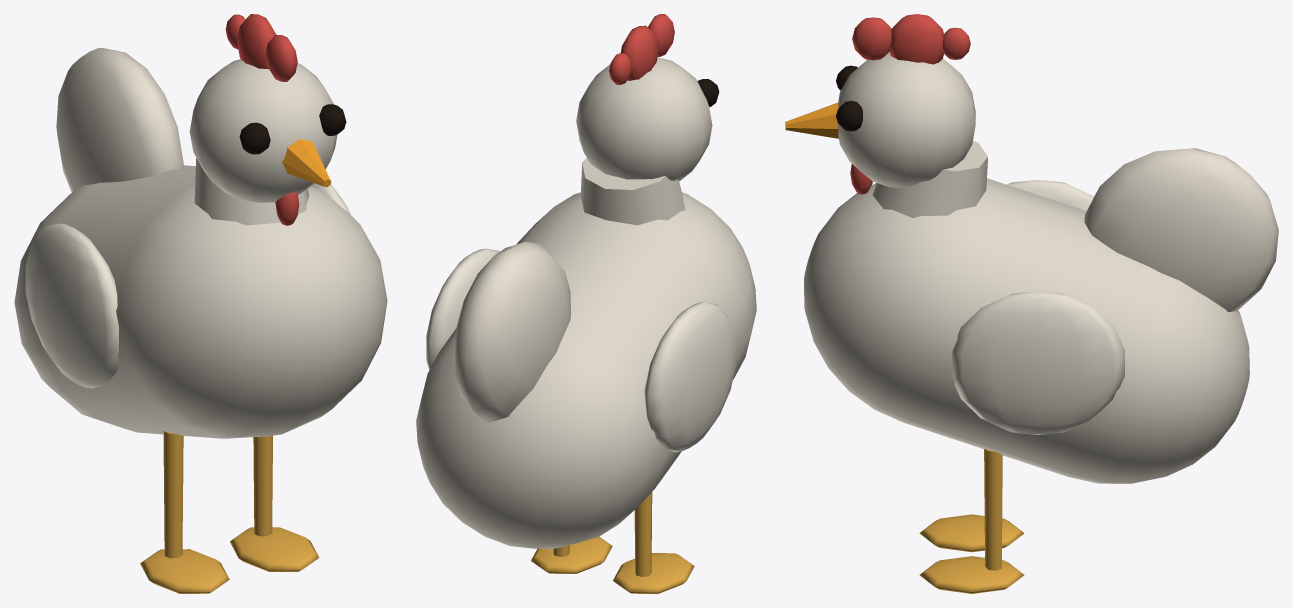
File: h38-ayam.glb
3 views of the same model, side by side, from view 1: azimuth 30°, elevation 25°; view 2: azimuth 150°, elevation 25°; view 3: azimuth 270°, elevation 25° (orthographic). The views are drawn at different scales.
Parts seen in each view (by area): view 1: Ayam, head; view 2: Ayam, head; view 3: Ayam, head.
Part boxes in pixels (x1,y1,x2,y2): Ayam: (14, 48, 387, 593); head: (189, 14, 346, 225); Ayam: (416, 158, 756, 593); head: (576, 14, 719, 181); Ayam: (804, 140, 1278, 593); head: (785, 14, 975, 194).
Bounding box in the file's own units: 0.2819 × 0.552 × 0.4499.
